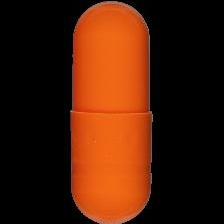42549-666: (0, 0, 224, 224)
